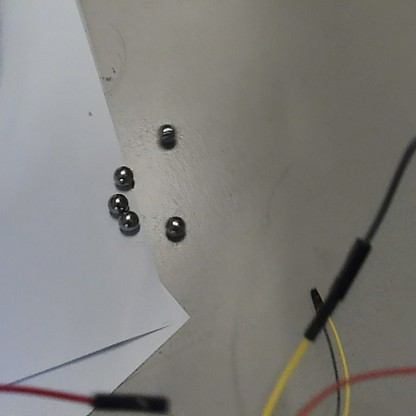ironball: (158, 214, 192, 240), (110, 161, 134, 191), (105, 189, 131, 213), (153, 120, 177, 145), (116, 208, 139, 232)
